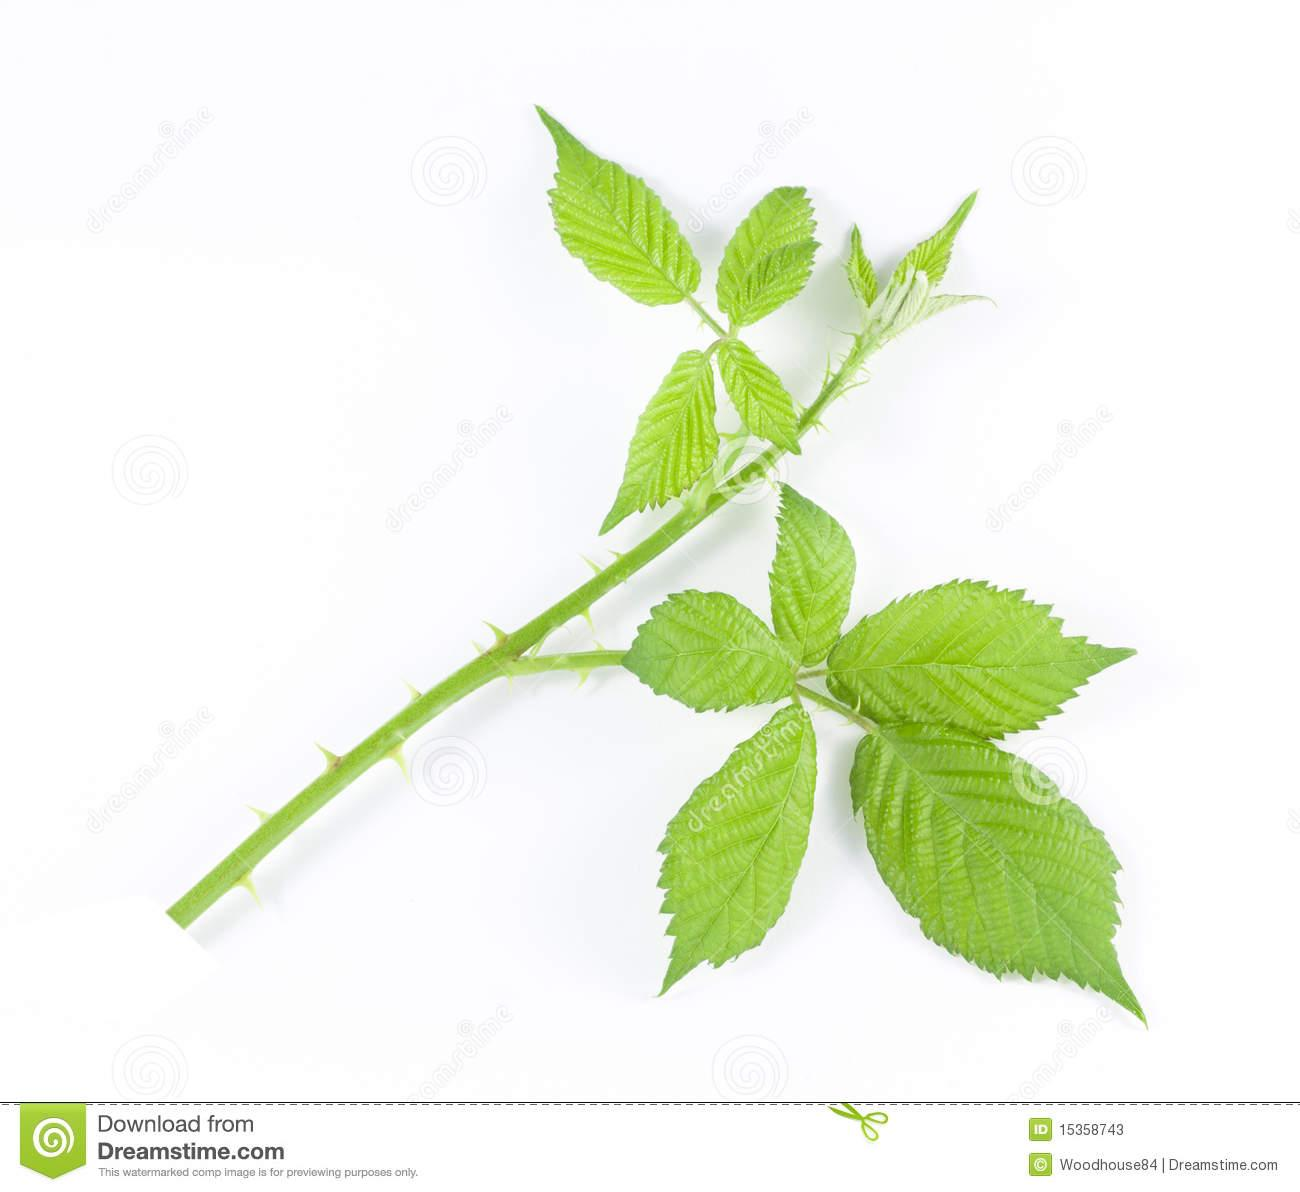Raspberry leaf: (841, 704, 1171, 1044), (651, 700, 833, 1012), (824, 582, 1153, 744), (532, 93, 700, 315), (588, 346, 729, 537), (622, 585, 810, 719), (766, 454, 859, 670), (717, 163, 826, 337), (710, 321, 810, 461)
